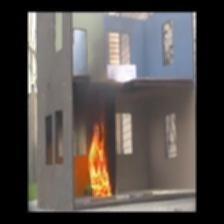fire: (82, 118, 114, 197)
